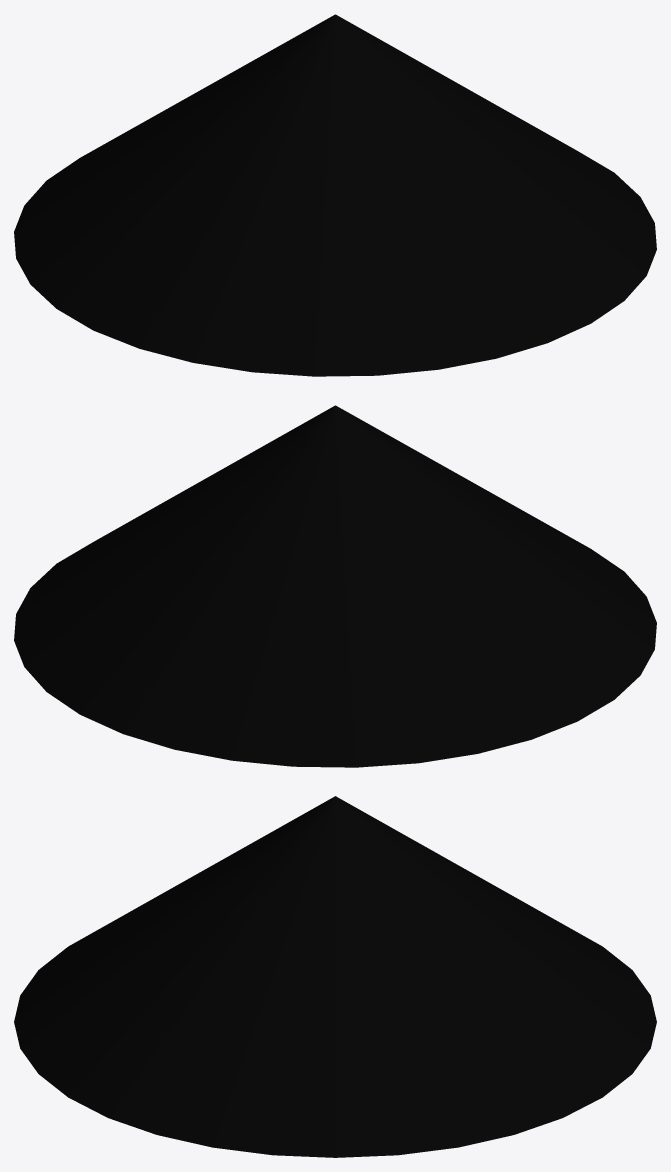
3 views of the same model, one above another, from view 1: azimuth 30°, elevation 25°; view 2: azimuth 150°, elevation 25°; view 3: azimuth 270°, elevation 25° (orthographic).
Parts seen in each view (by area): view 1: node_id4; view 2: node_id4; view 3: node_id4.
Boxes of the visible parts, x1,y1,x2,y2 form: node_id4: (14,14,656,376); node_id4: (14,405,656,767); node_id4: (14,796,656,1157).
Size of the model in its own units: 0.512 by 0.1985 by 0.512.
1 material, 1 textured.
